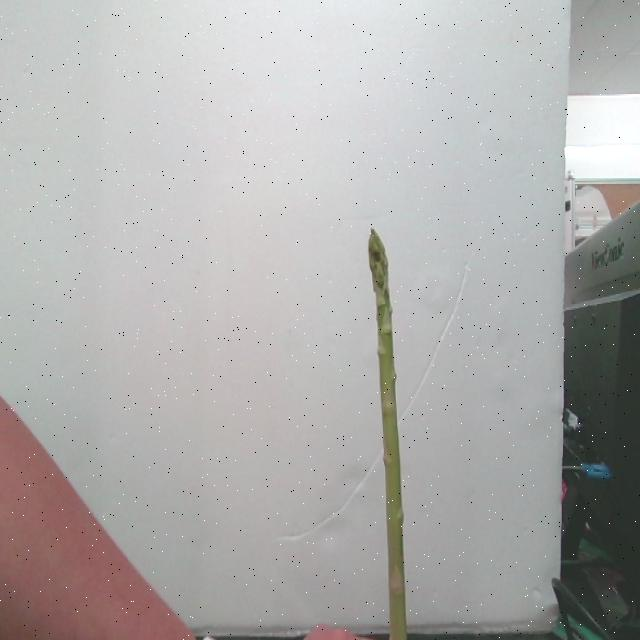aspargus: (369, 231, 409, 640)
